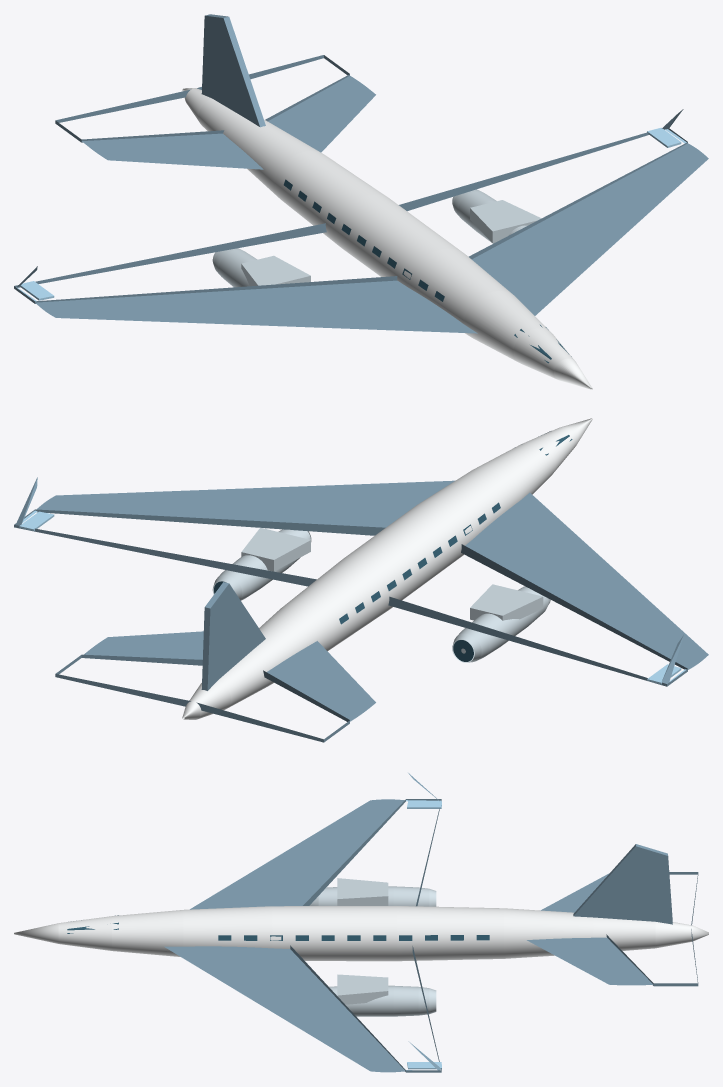
The model's file is airspace-generic.glb.
The picture shows the model from 3 angles, top to bottom: view 1: azimuth 30°, elevation 25°; view 2: azimuth 150°, elevation 25°; view 3: azimuth 270°, elevation 25°; orthographic projection. The views are drawn at different scales.
Size of the model in its own units: 36 by 7.45 by 39.
